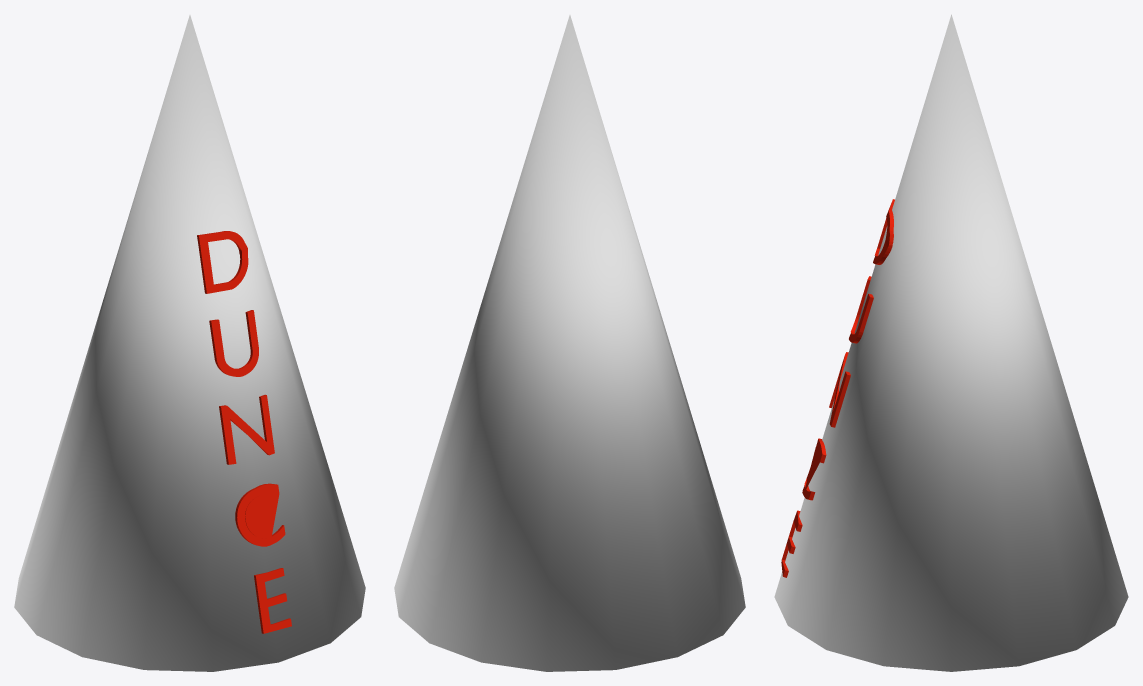
The model's file is DunceHat.fbx.
The picture shows the model from 3 angles, left to right: view 1: azimuth 30°, elevation 25°; view 2: azimuth 150°, elevation 25°; view 3: azimuth 270°, elevation 25°; orthographic projection.
Parts seen in each view (by area): view 1: Cone, Text; view 2: Cone; view 3: Cone, Text.
Part boxes in pixels (left/top/right/bottom): Cone: left=14, top=15, right=365, bottom=671; Text: left=197, top=231, right=291, bottom=633; Cone: left=394, top=15, right=745, bottom=671; Cone: left=774, top=14, right=1128, bottom=671; Text: left=781, top=199, right=894, bottom=577.
Size of the model in its own units: 110 by 200 by 110.
